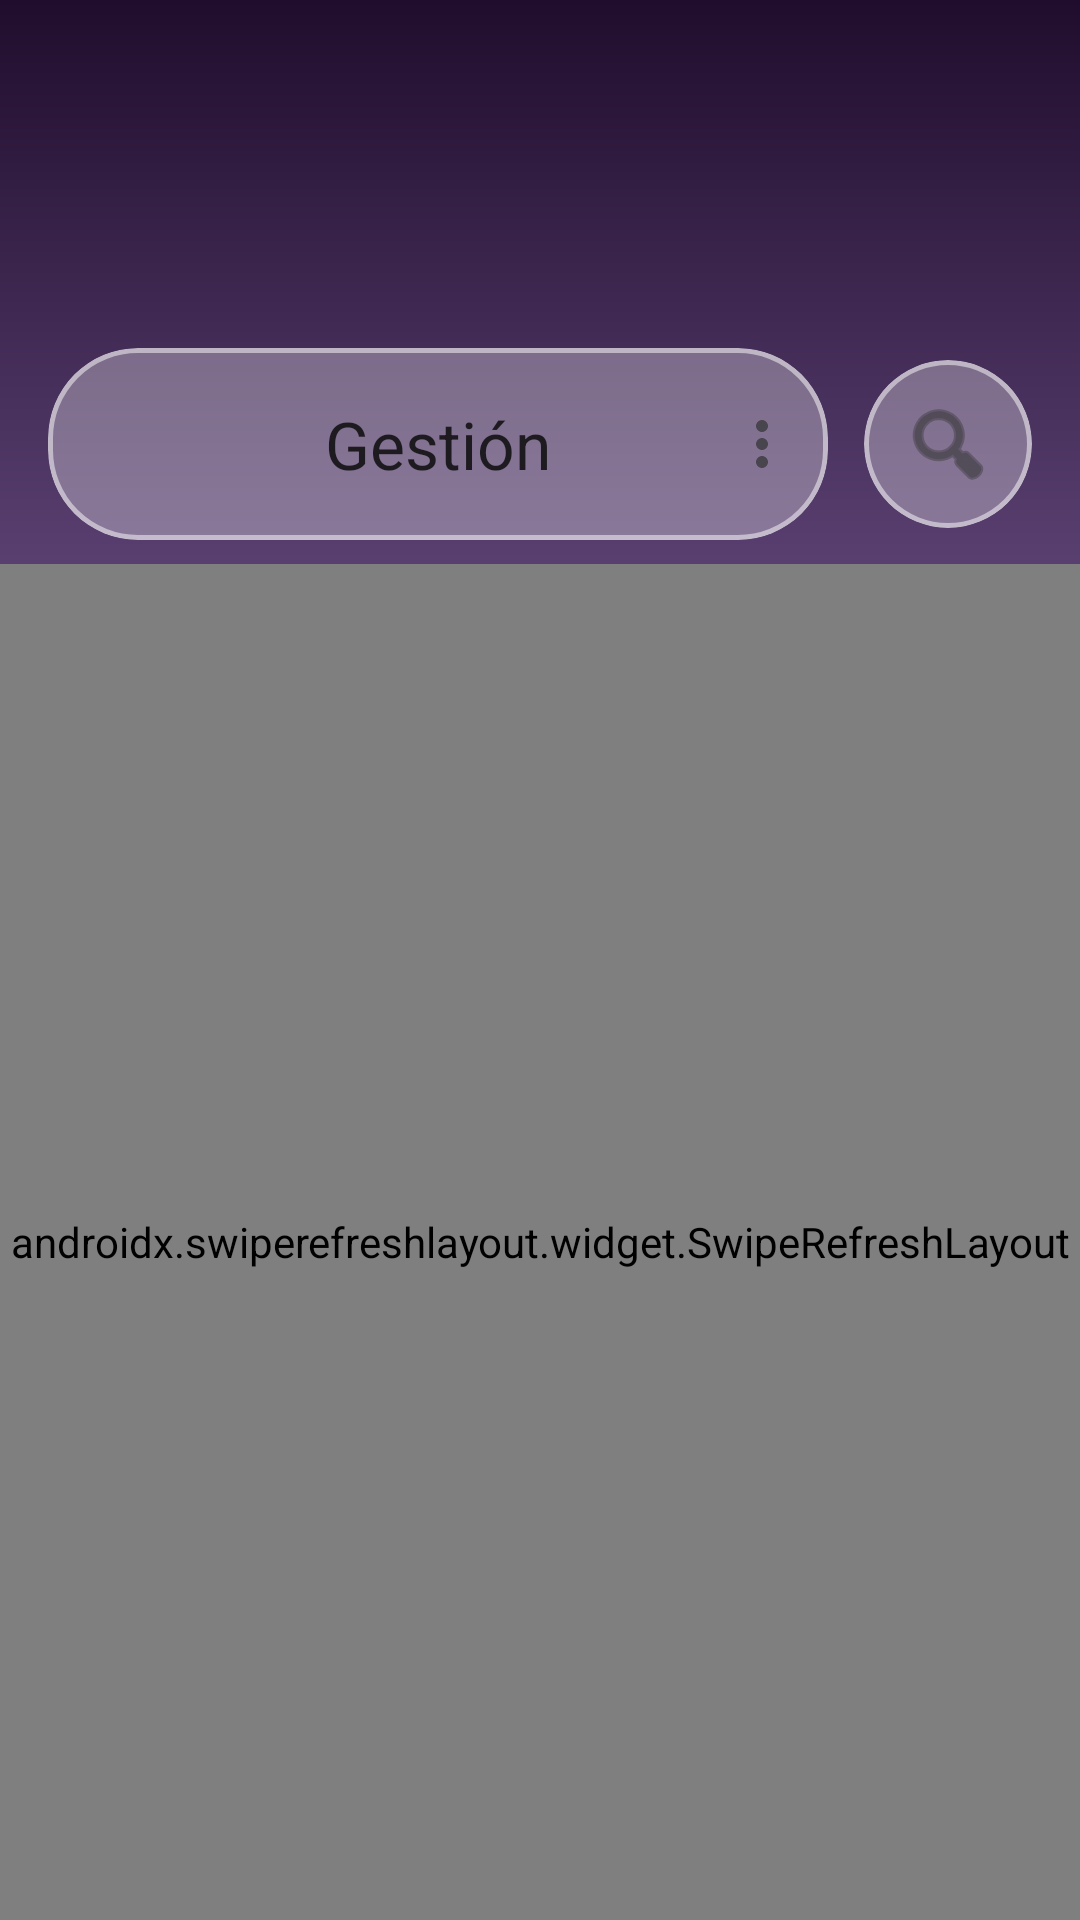

Point at icon controls on the screen. Image size 1080px x 1920px, points as point (x, y).
search: point (948, 444)
